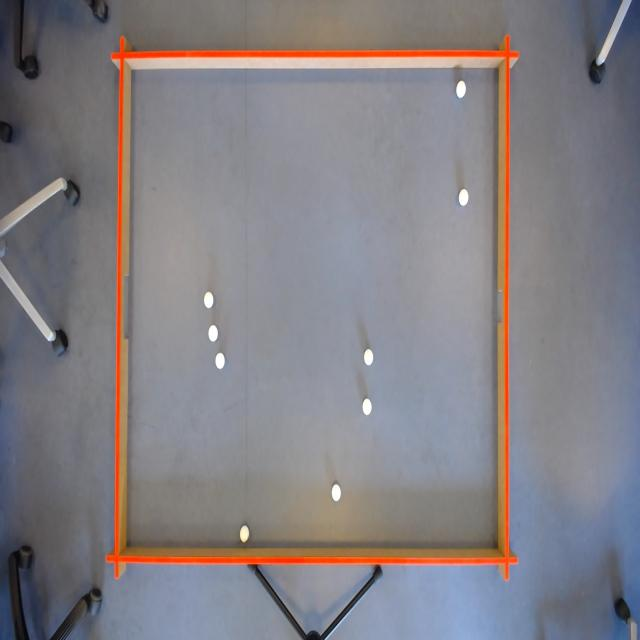white_ball: (454, 78, 468, 100), (207, 322, 220, 345), (330, 481, 342, 505), (361, 396, 374, 418), (238, 522, 251, 544), (458, 187, 470, 210), (362, 346, 374, 369), (203, 290, 215, 310), (214, 352, 226, 372)
